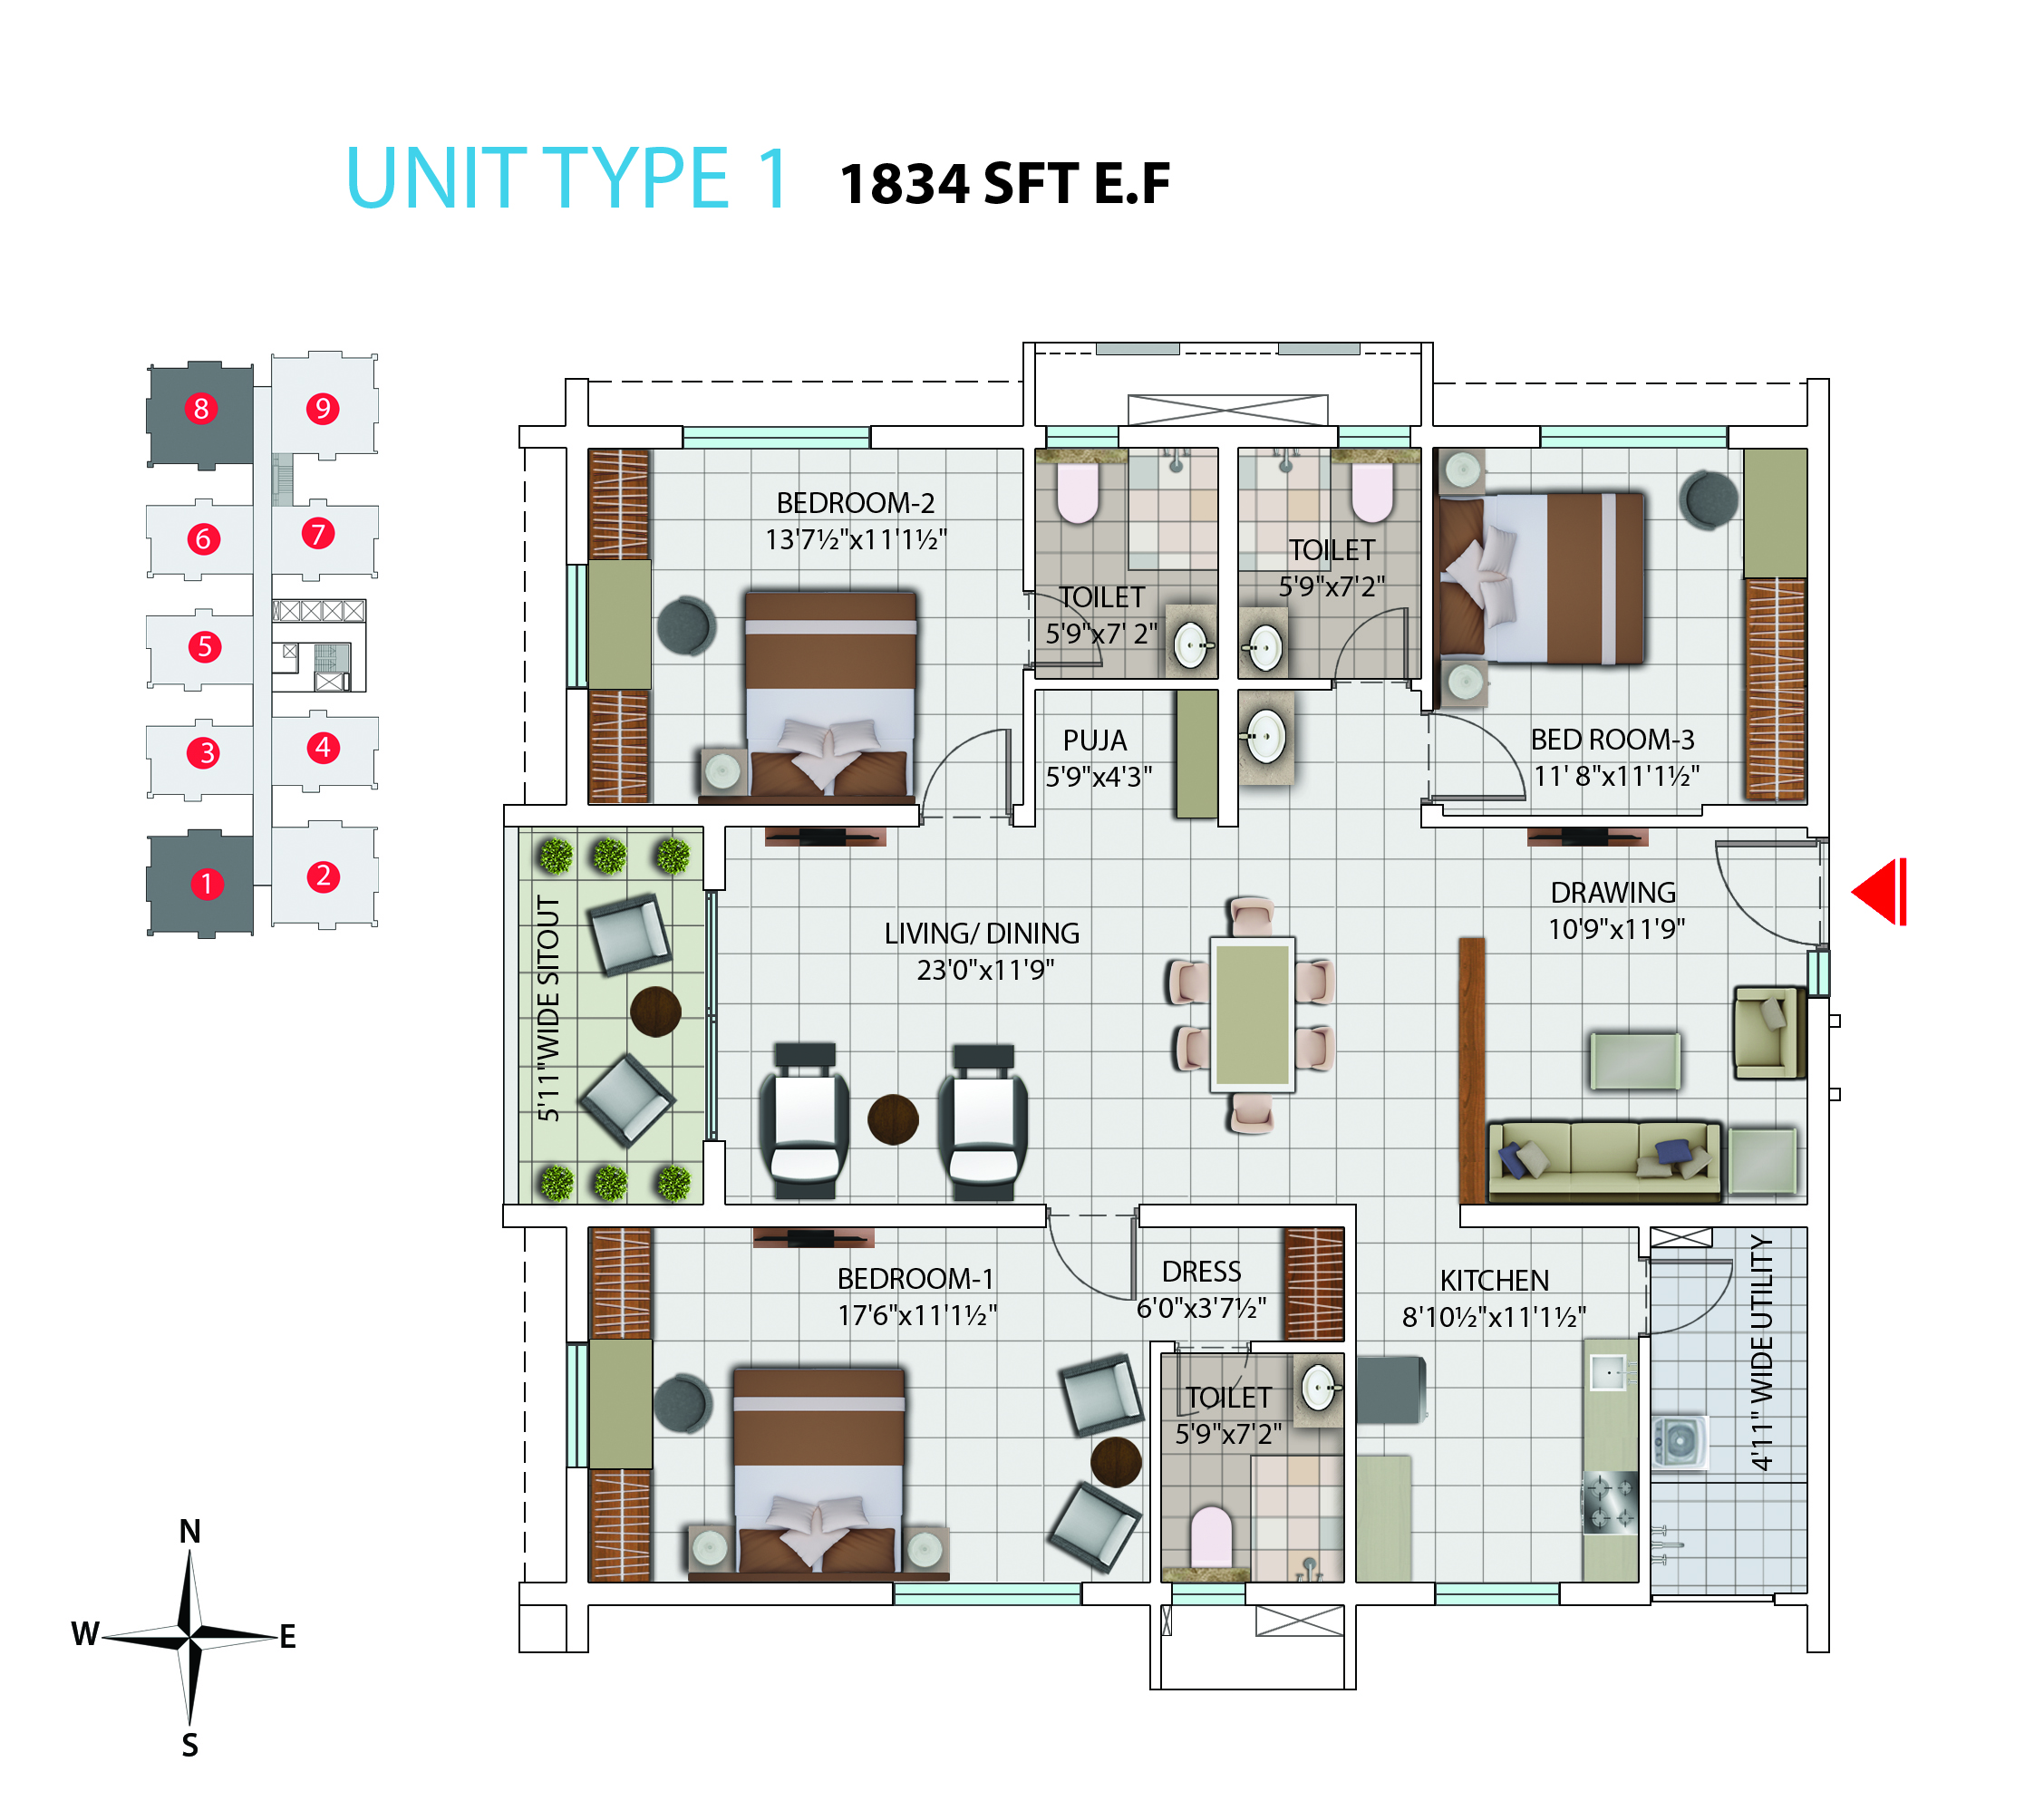window: (891, 1579, 1087, 1609), (1535, 422, 1730, 451), (680, 423, 875, 451), (1430, 1581, 1560, 1609), (1168, 1579, 1249, 1611), (1042, 423, 1122, 451), (1333, 422, 1414, 450)
